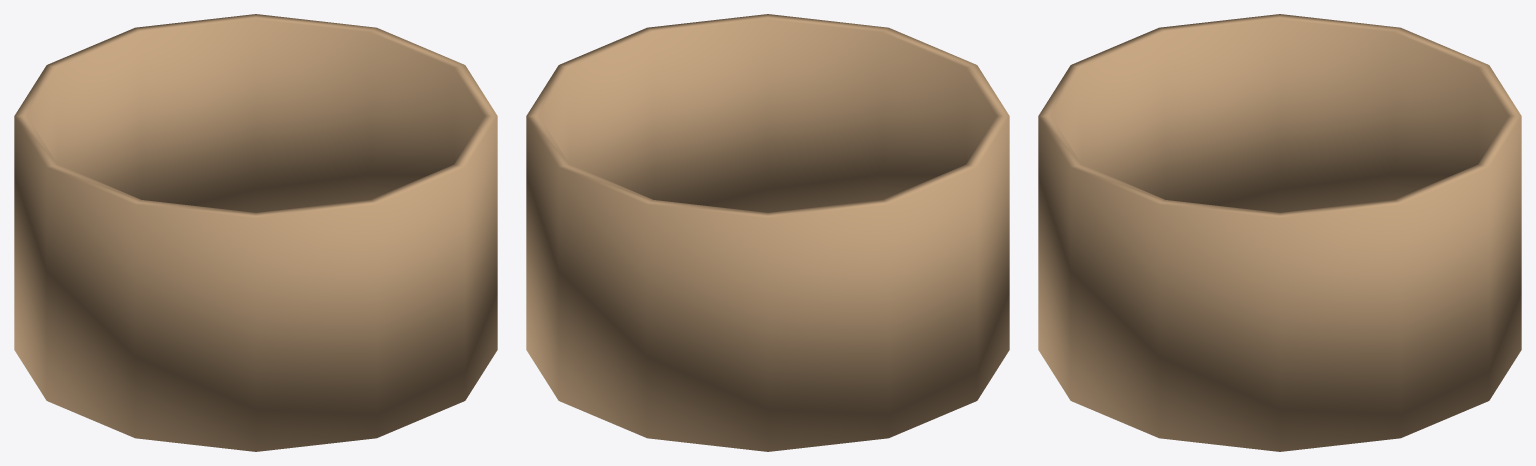
The model's file is prop-drum-shell-blank.fbx.
3 views of the same model, side by side, from view 1: azimuth 30°, elevation 25°; view 2: azimuth 150°, elevation 25°; view 3: azimuth 270°, elevation 25° (orthographic).
Parts seen in each view (by area): view 1: prop-drum-shell-blank; view 2: prop-drum-shell-blank; view 3: prop-drum-shell-blank.
Part boxes in pixels (x1=…): prop-drum-shell-blank: x1=14, y1=14, x2=497, y2=451; prop-drum-shell-blank: x1=526, y1=14, x2=1009, y2=451; prop-drum-shell-blank: x1=1038, y1=14, x2=1521, y2=451.
Bounding box in the file's own units: 30 × 16 × 30.
